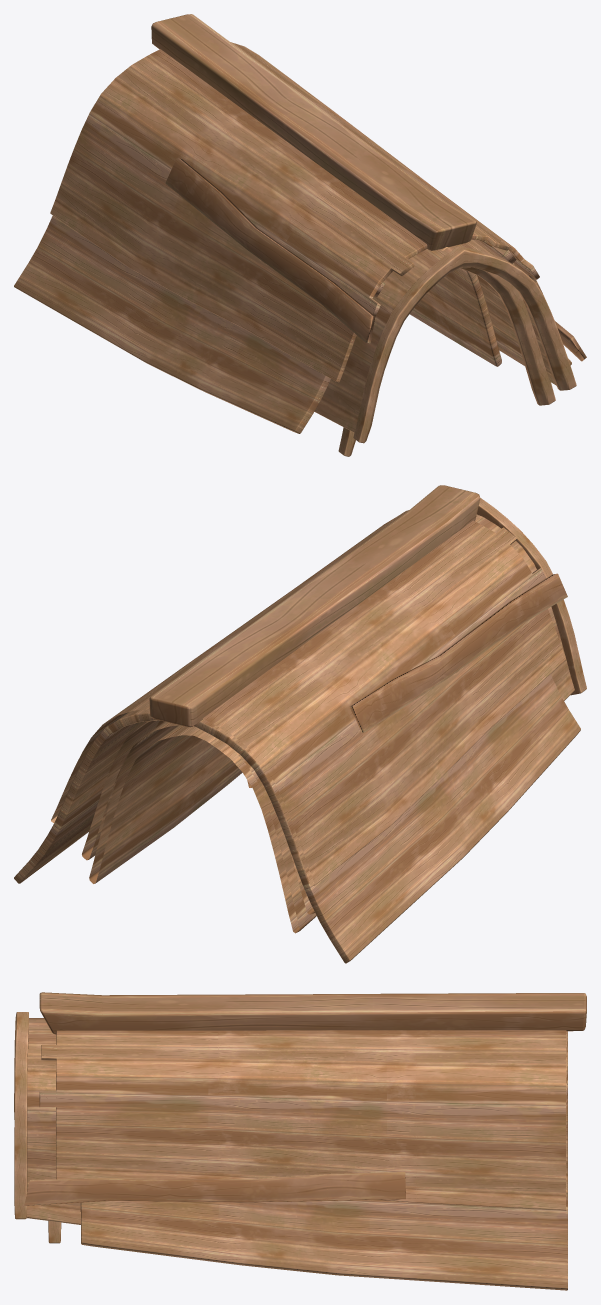
Rendered from SM_Roof_B.fbx.
3 views of the same model, one above another, from view 1: azimuth 30°, elevation 25°; view 2: azimuth 150°, elevation 25°; view 3: azimuth 270°, elevation 25° (orthographic). The views are drawn at different scales.
Visible parts, largest first — view 1: SM_Roof_B_LOD0; view 2: SM_Roof_B_LOD0; view 3: SM_Roof_B_LOD0.
Part boxes in pixels (x1=…): SM_Roof_B_LOD0: x1=14, y1=14, x2=586, y2=456; SM_Roof_B_LOD0: x1=14, y1=485, x2=586, y2=963; SM_Roof_B_LOD0: x1=14, y1=992, x2=586, y2=1290.
Size of the model in its own units: 1022 by 1602 by 665.
Materials: 2 (2 with a texture image).
